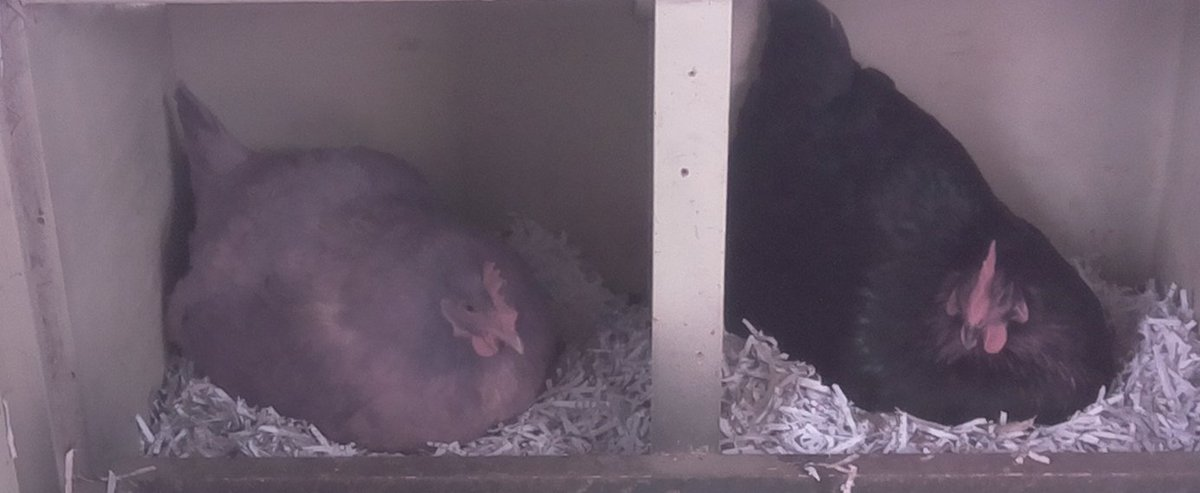hen: (732, 5, 1117, 432), (163, 82, 564, 450)
